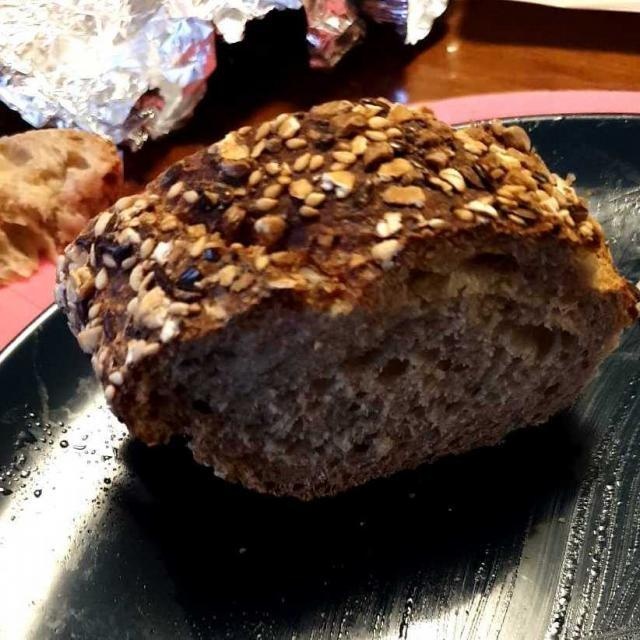bread: (54, 96, 640, 495)
